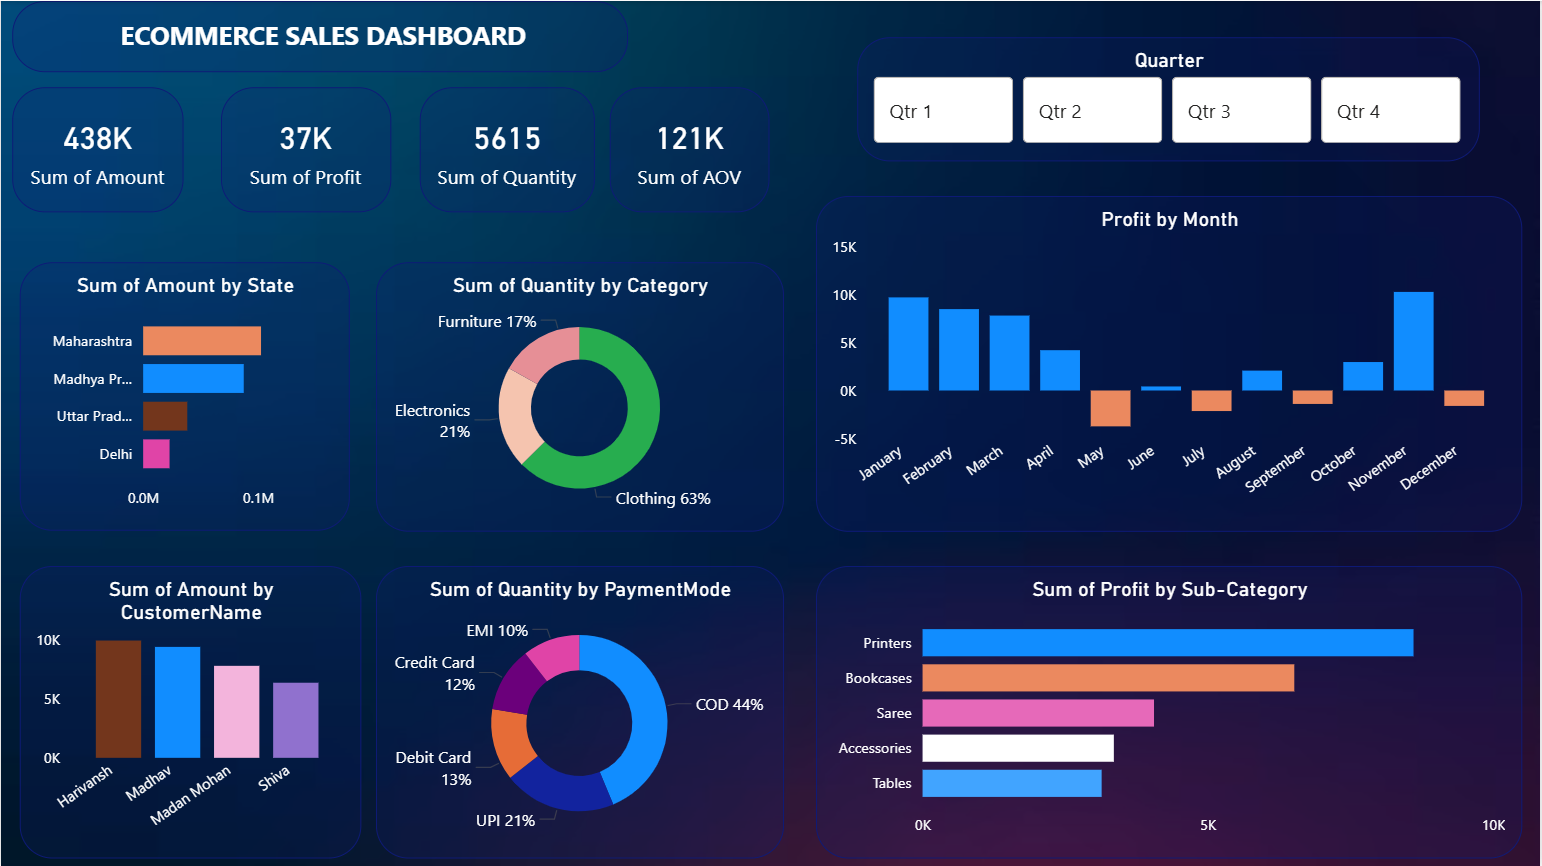

Layout of this report page (visuals, bound fields, positions):
{"tool":"powerbi","page":{"name":"Page 1","canvas":[1280,720],"ordinal":0},"visuals":[{"type":"textbox","box":[9.3,0,511.6,59.3],"z":0},{"type":"columnChart","title":"Profit by Month","fields":{"Category":["Orders.Order Date.Variation.Date Hierarchy.Month"],"Y":["Details.Profit"]},"box":[677.9,161.6,587.2,279.1],"z":1000},{"type":"barChart","fields":{"Category":["Details.Sub-Category"],"Y":["Details.Profit"]},"box":[677.9,469.3,587.3,242.9],"z":2000},{"type":"donutChart","fields":{"Category":["Details.Category"],"Y":["Details.Quantity"]},"box":[311.5,216.8,338.9,223.7],"z":3000},{"type":"donutChart","fields":{"Y":["Details.Quantity"],"Category":["Details.PaymentMode"]},"box":[311.5,469.3,338.9,242.9],"z":4000},{"type":"card","fields":{"Values":["Details.Amount"]},"box":[9.6,71.4,142.7,104.3],"z":4001},{"type":"card","fields":{"Values":["Details.Profit"]},"box":[182.5,71.4,141.3,104.3],"z":4002},{"type":"card","fields":{"Values":["Details.Quantity"]},"box":[348.5,71.4,145.5,104.3],"z":4003},{"type":"card","fields":{"Values":["Details.AOV"]},"box":[506.3,71.4,133.1,104.3],"z":4004},{"type":"barChart","fields":{"Category":["Orders.State"],"Y":["Details.Amount"]},"box":[15.1,217.4,274.4,223.3],"z":4005},{"type":"columnChart","fields":{"Category":["Orders.CustomerName"],"Y":["Details.Amount"]},"box":[15.1,469.3,284,242.9],"z":4006},{"type":"advancedSlicerVisual","fields":{"Values":["Orders.Order Date.Variation.Date Hierarchy.Quarter"]},"box":[712.2,30.2,517.3,102.9],"z":4007}]}

Visuals, with their boxes in screenshot pixels (x1, y1, x2, y2), scaled from the page's 1280x720 canvas onto the 1542x866 screenshot:
textbox: <box>11,0,628,71</box>
"Profit by Month" columnChart: <box>817,194,1524,530</box>
barChart - Details.Sub-Category x Details.Profit: <box>817,564,1524,857</box>
donutChart - Details.Category x Details.Quantity: <box>375,261,784,530</box>
donutChart - Details.Quantity x Details.PaymentMode: <box>375,564,784,857</box>
card - Details.Amount: <box>12,86,183,211</box>
card - Details.Profit: <box>220,86,390,211</box>
card - Details.Quantity: <box>420,86,595,211</box>
card - Details.AOV: <box>610,86,770,211</box>
barChart - Orders.State x Details.Amount: <box>18,261,349,530</box>
columnChart - Orders.CustomerName x Details.Amount: <box>18,564,360,857</box>
advancedSlicerVisual - Orders.Order Date.Variation.Date Hierarchy.Quarter: <box>858,36,1481,160</box>
